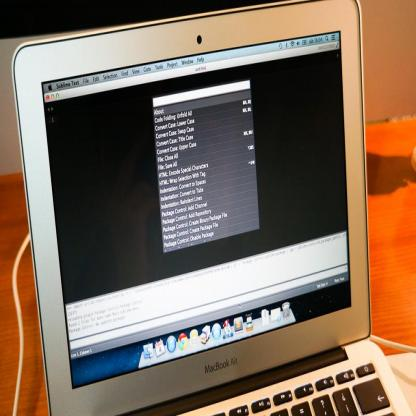board: (11, 0, 416, 416)
